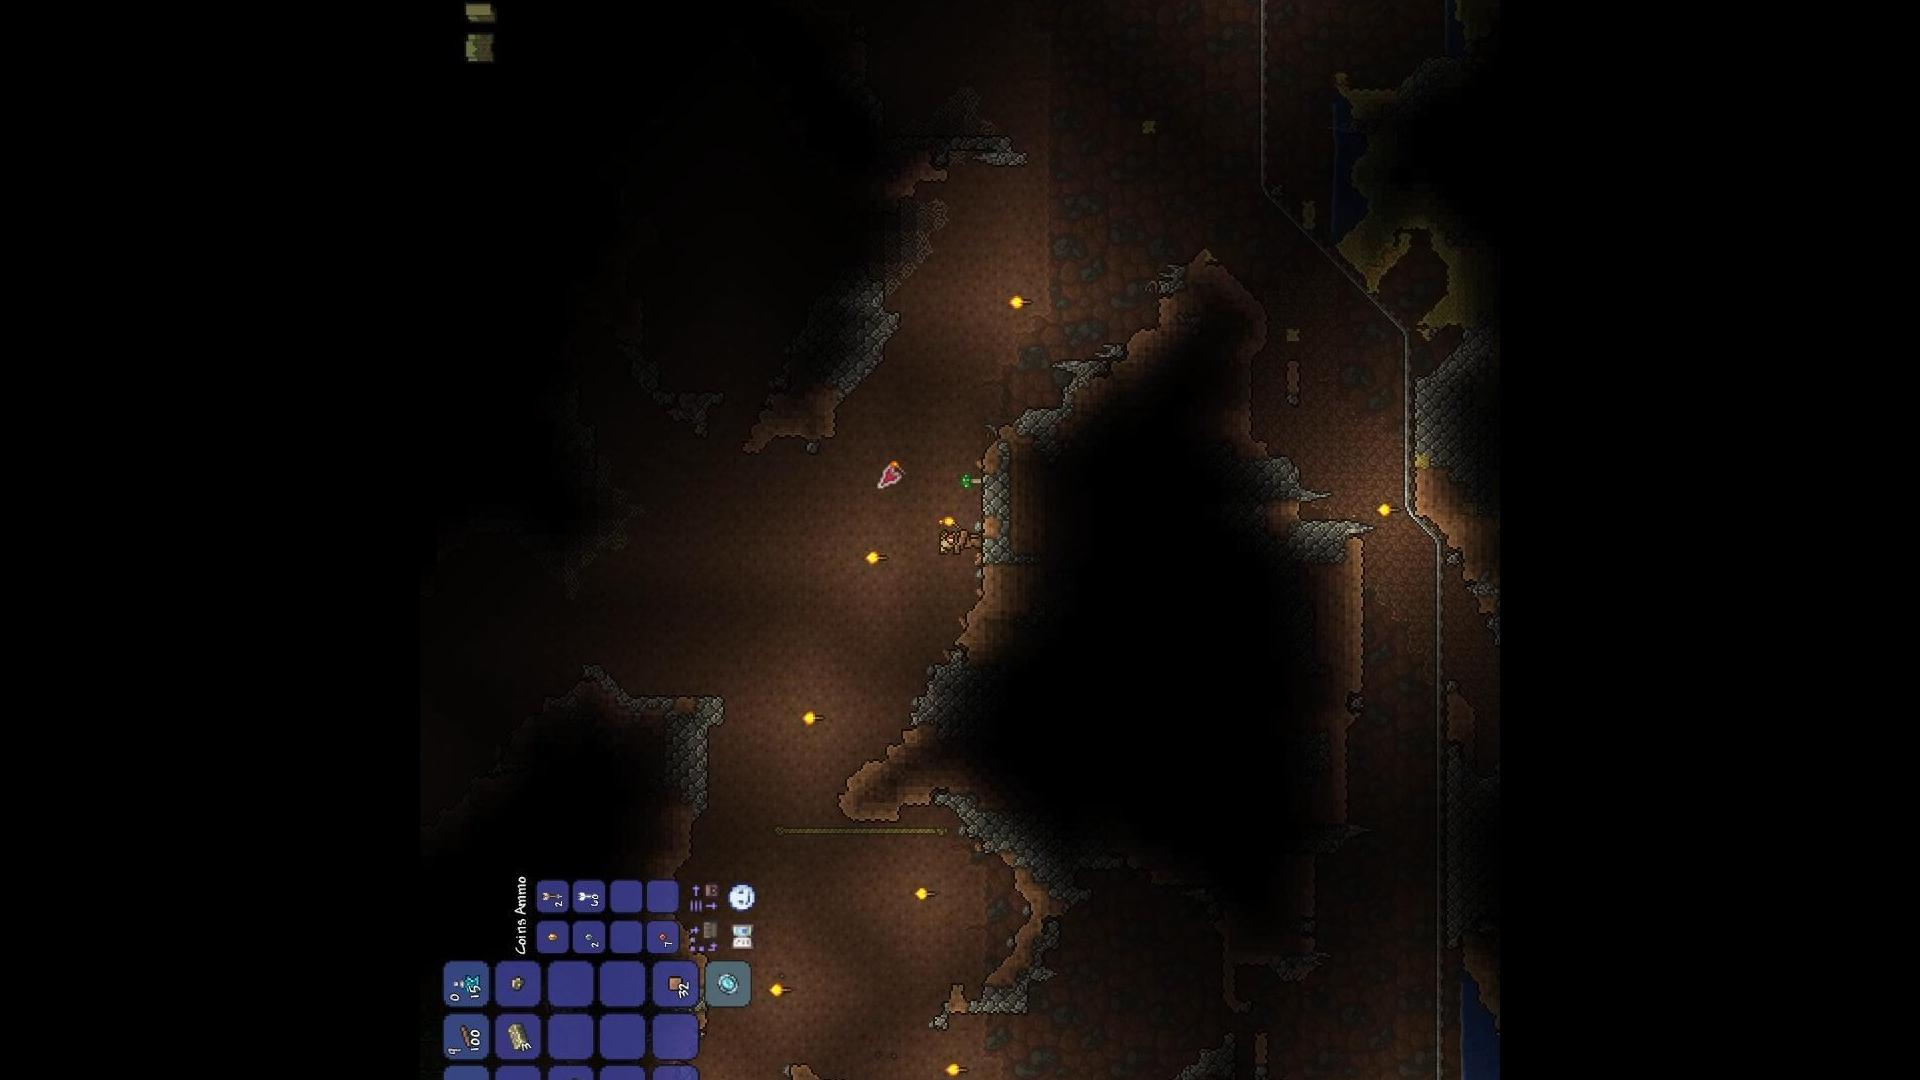bomb: (559, 1075, 585, 1080)
ore: (506, 972, 527, 993)
recallP: (454, 972, 481, 993)
